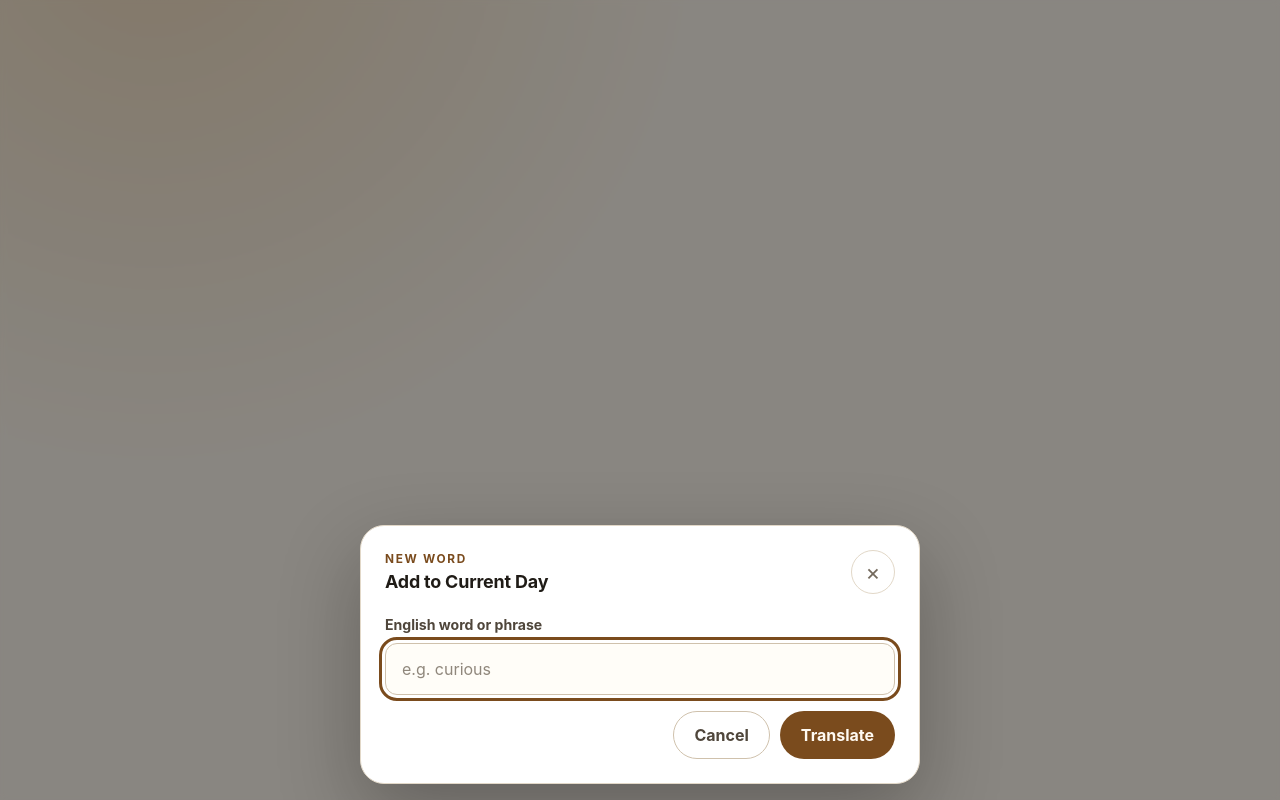
Scenario: AddCardDialog › requires a word
Click the button "Translate" at (837, 735), box [780,711,895,759]
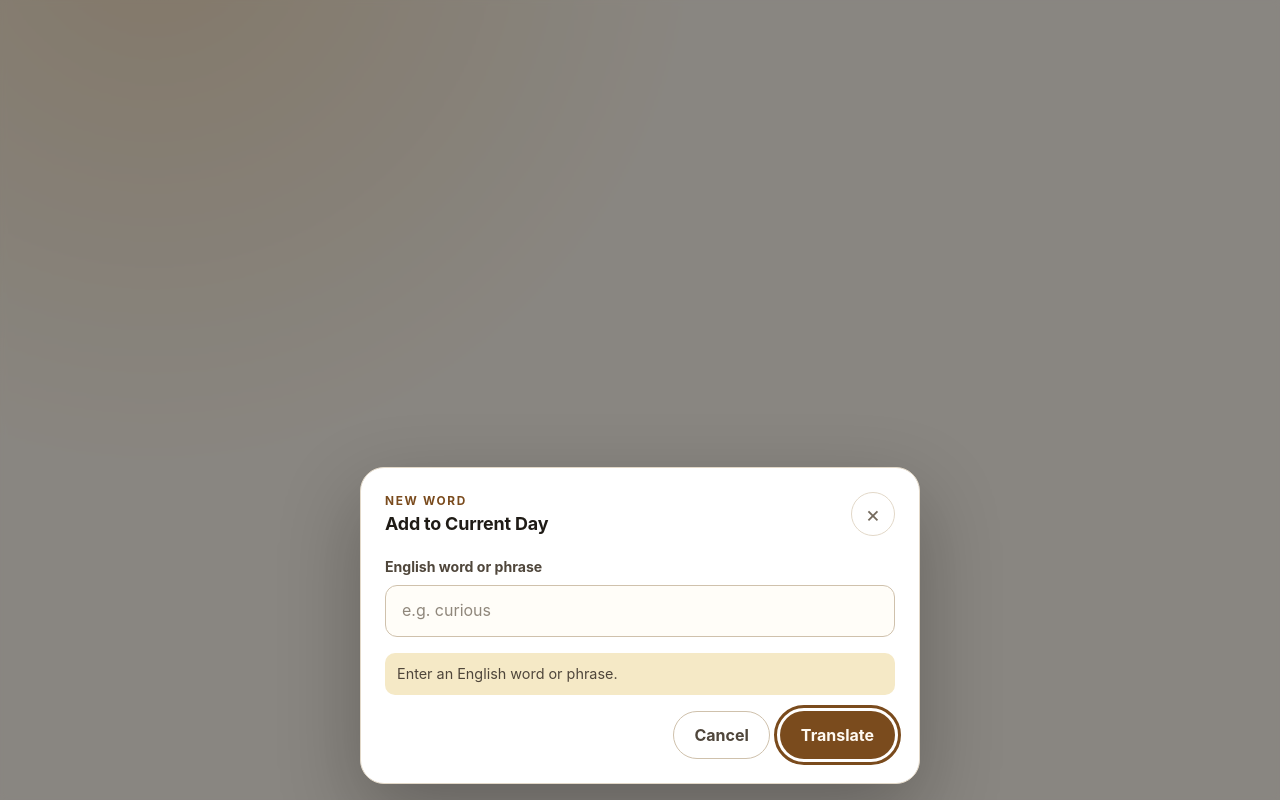
Now the message reads "Enter an English word or phrase.", box [397,665,618,682]
